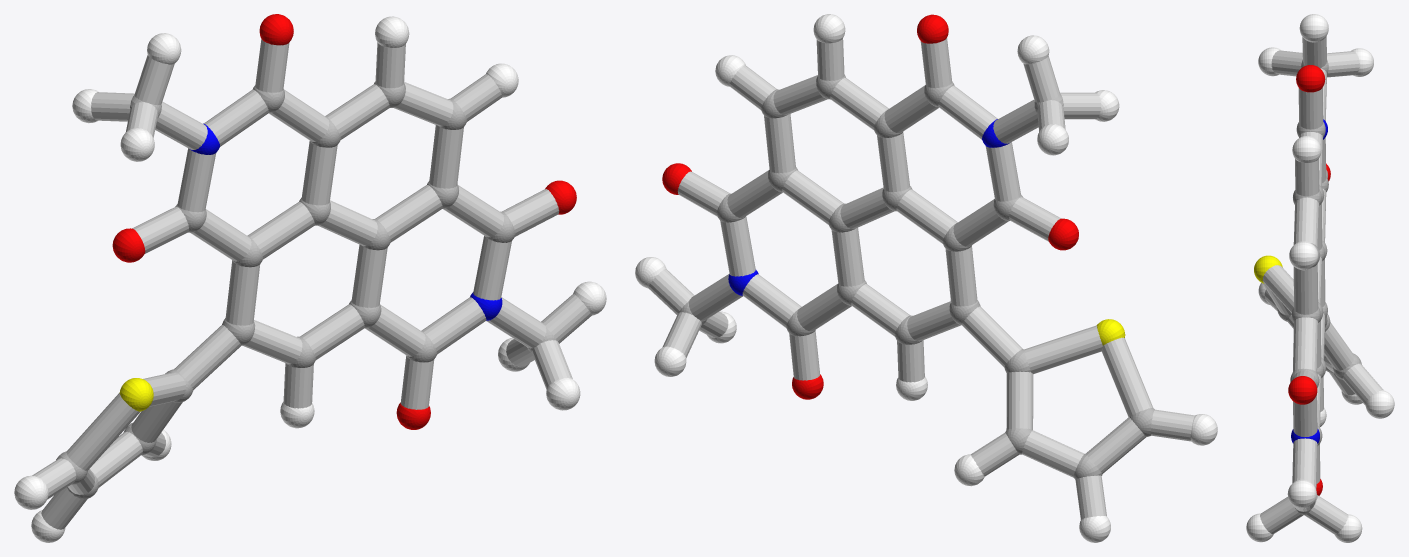
The model's file is color.glb.
3 renders of one model, left to right at view 1: azimuth 30°, elevation 25°; view 2: azimuth 150°, elevation 25°; view 3: azimuth 270°, elevation 25°, orthographic. The views are drawn at different scales.
Visible parts, largest first — view 1: grp14119, grp7241, grp1, grp12309, grp13757, grp11585; view 2: grp14119, grp7241, grp1, grp12309, grp11585; view 3: grp14119, grp7241, grp1, grp12309, grp13757, grp11585.
Part boxes in pixels (x1=…): grp14119: x1=32, y1=39, x2=591, y2=529; grp7241: x1=14, y1=16, x2=606, y2=542; grp1: x1=56, y1=81, x2=557, y2=499; grp12309: x1=112, y1=14, x2=576, y2=429; grp13757: x1=119, y1=378, x2=153, y2=411; grp11585: x1=190, y1=123, x2=502, y2=320; grp14119: x1=648, y1=38, x2=1194, y2=519; grp7241: x1=635, y1=14, x2=1217, y2=542; grp1: x1=678, y1=75, x2=1154, y2=479; grp12309: x1=662, y1=14, x2=1078, y2=399; grp11585: x1=728, y1=119, x2=1009, y2=295; grp14119: x1=1260, y1=36, x2=1383, y2=534; grp7241: x1=1246, y1=14, x2=1394, y2=542; grp1: x1=1277, y1=60, x2=1361, y2=515; grp12309: x1=1288, y1=65, x2=1330, y2=495; grp13757: x1=1254, y1=255, x2=1282, y2=283; grp11585: x1=1291, y1=119, x2=1327, y2=443.
Size of the model in its own units: 12.19 by 9.68 by 3.05.
